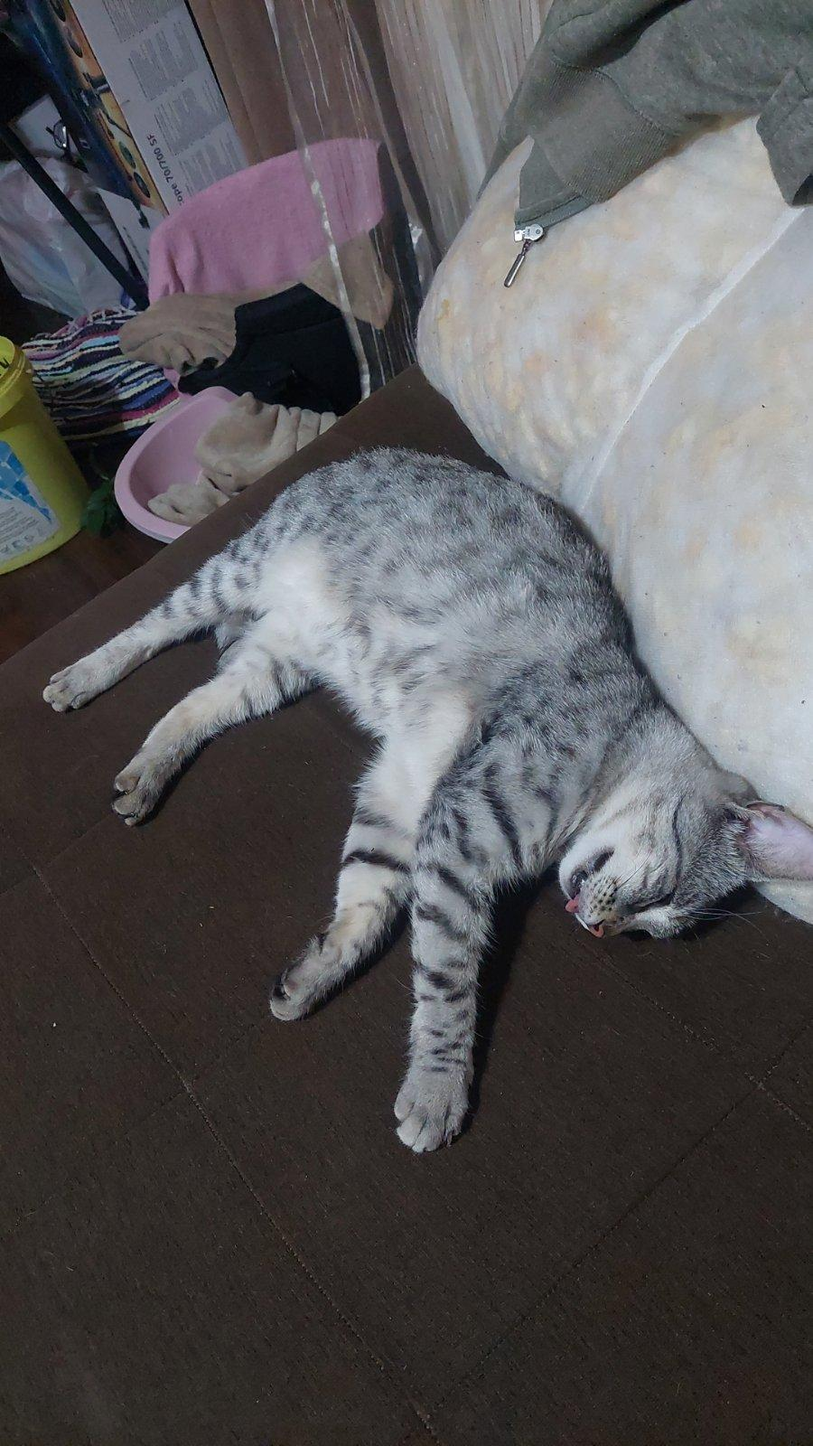macka: (42, 444, 812, 1160)
